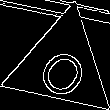O_NE: (30, 32, 94, 99)
